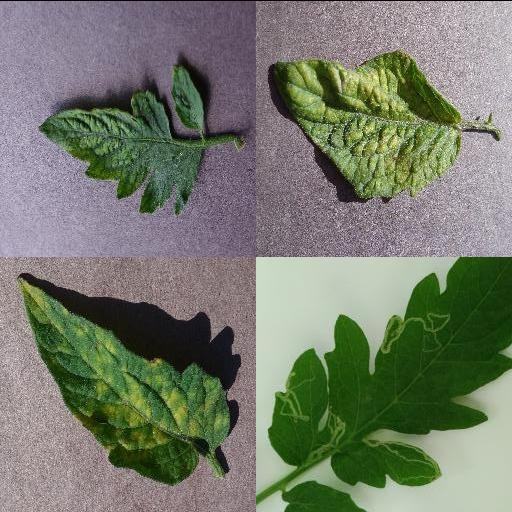Leaf Miner: (265, 256, 512, 488)
Leaf Mold: (18, 274, 230, 483)
Mosaic Virus: (39, 90, 205, 214)
Spider Mites: (273, 50, 463, 196)
